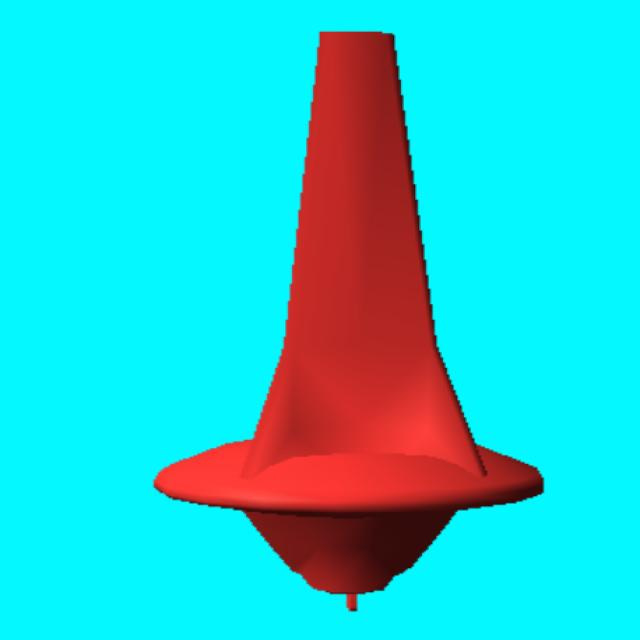RedBuoy: (154, 32, 543, 609)
